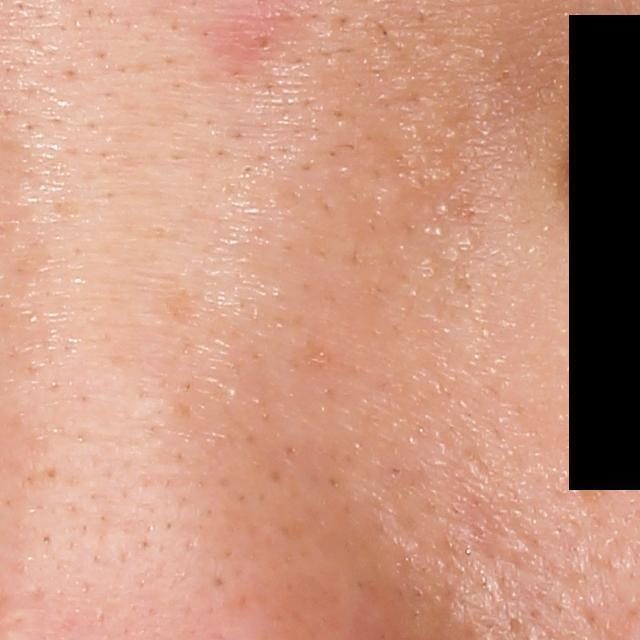melasma: (568, 469, 607, 507)
